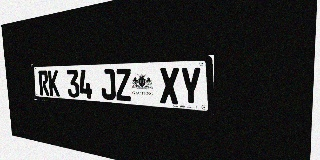3: (66, 70, 80, 98)
4: (78, 69, 92, 99)
J: (100, 69, 116, 100)
K: (48, 70, 60, 97)
R: (38, 70, 49, 96)
X: (159, 67, 180, 105)
Y: (180, 67, 202, 106)
Z: (115, 68, 132, 101)
